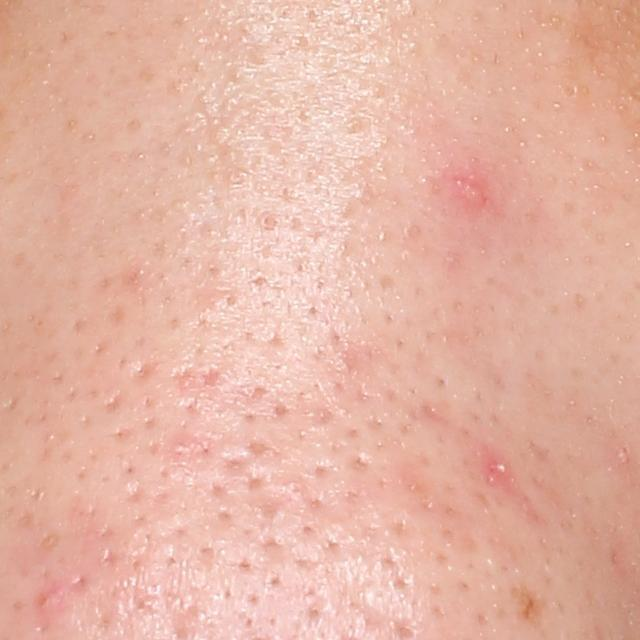atrophic_scar: (126, 356, 166, 384)
nevus: (505, 577, 548, 630)
papule: (457, 177, 491, 210)
